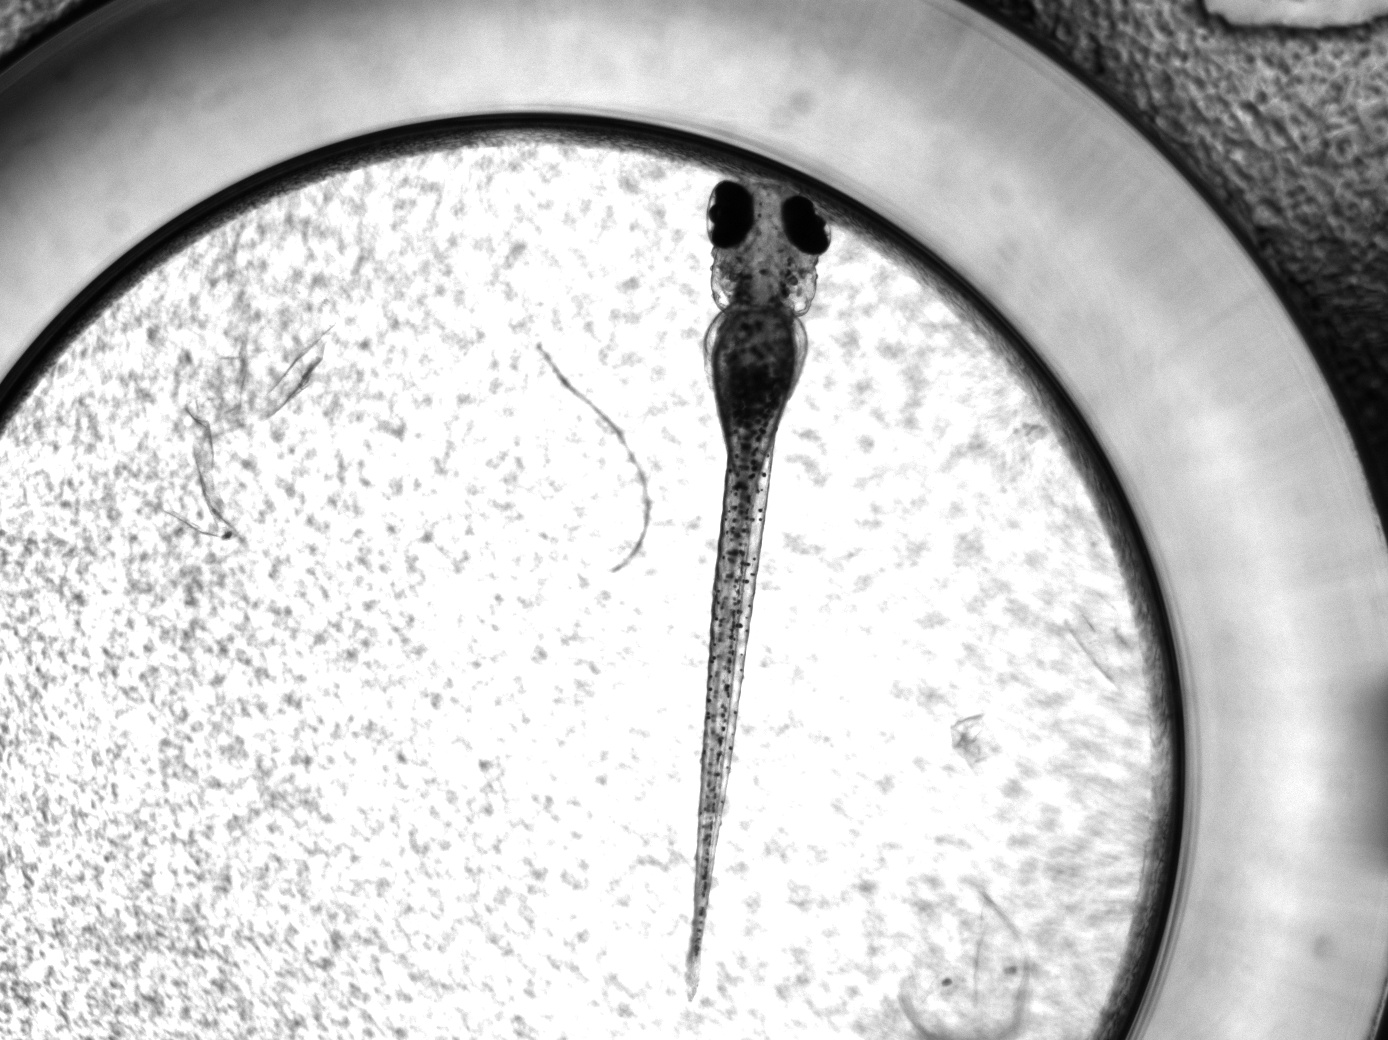embryo: (690, 173, 831, 961)
eye: (705, 180, 756, 249), (781, 193, 831, 255)
yolksac: (711, 304, 800, 466)
